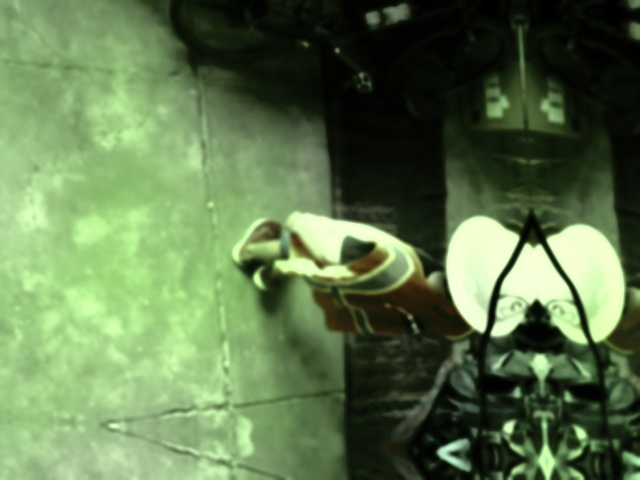three: (489, 291, 529, 322)
